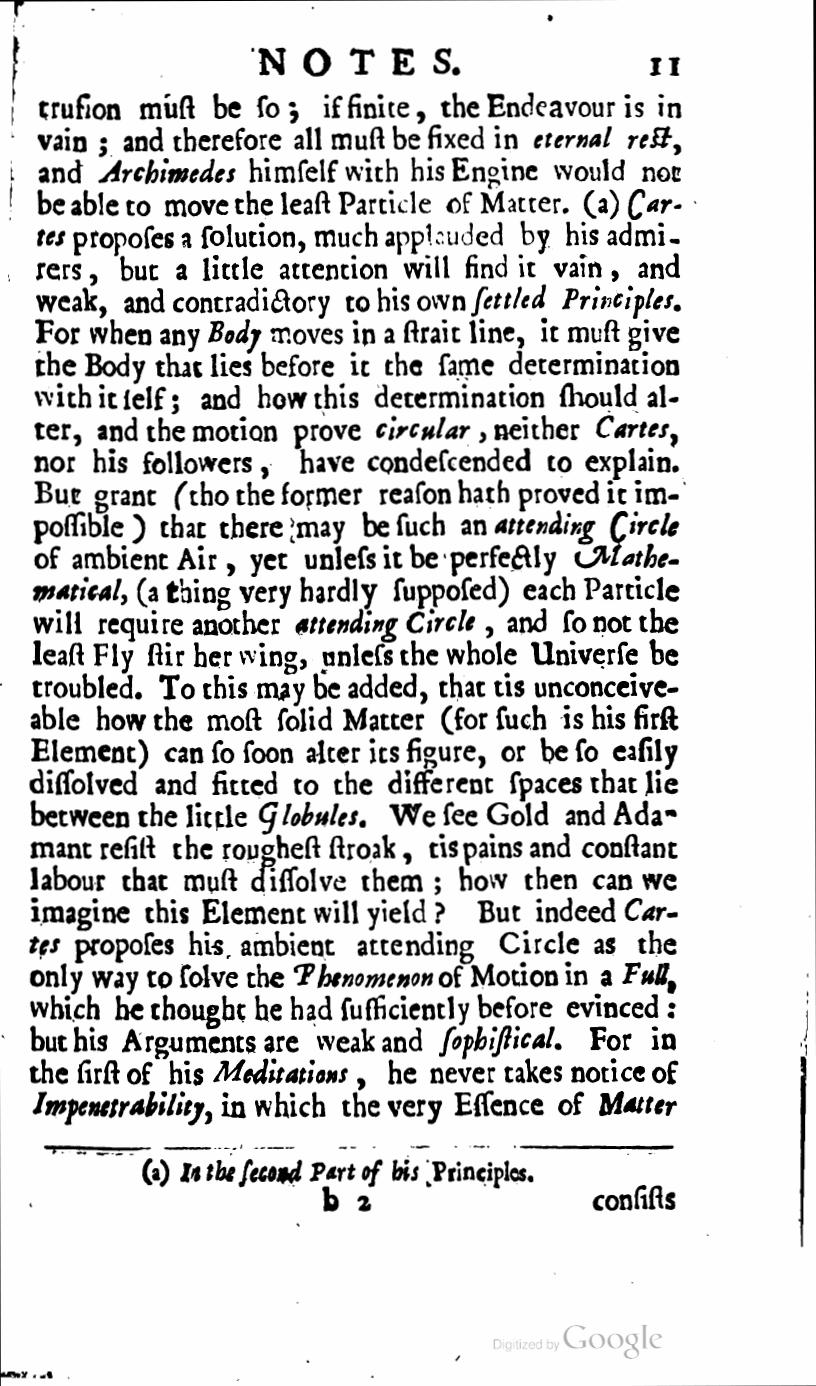catchword: (582, 1186, 682, 1218)
footnotes: (136, 1154, 540, 1188)
header: (248, 42, 466, 82)
page_num: (644, 48, 680, 84)
signature: (310, 1190, 388, 1220)
top_p: (28, 90, 682, 1122)
